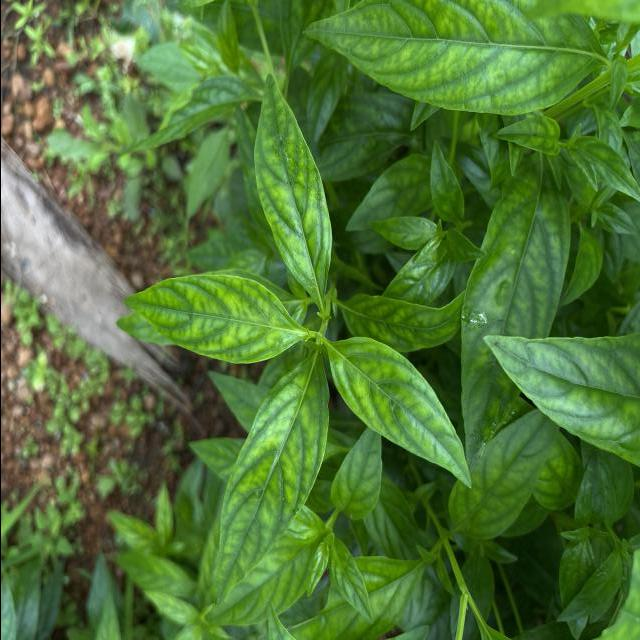Andrographis paniculata: (302, 0, 603, 118), (458, 164, 570, 466), (211, 351, 331, 606), (323, 332, 474, 493), (252, 70, 334, 306), (120, 272, 310, 365), (448, 394, 560, 544), (329, 425, 384, 520), (364, 216, 440, 254)
